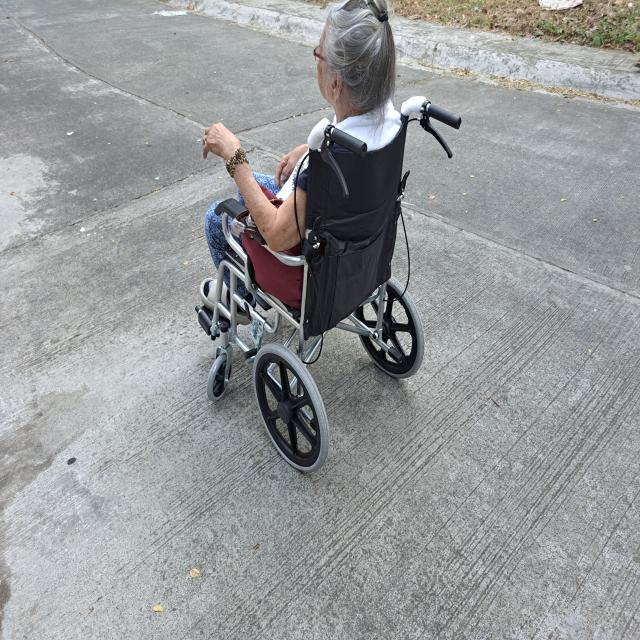wheelchairs: (192, 89, 468, 483)
